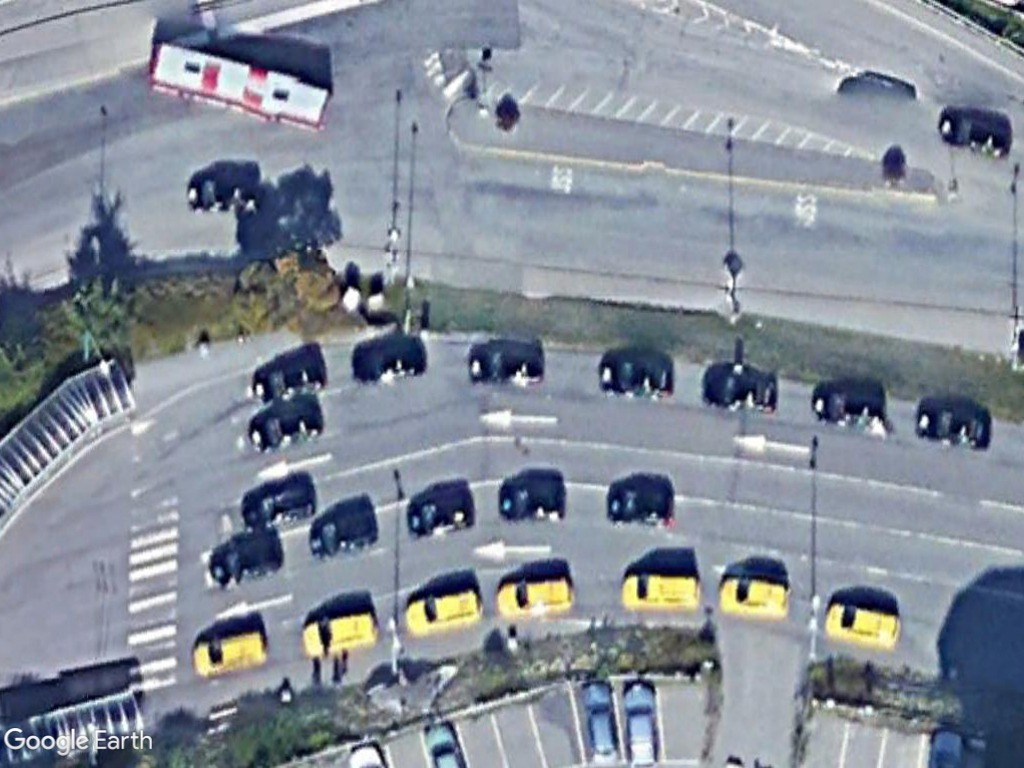bus: (144, 40, 341, 140)
van: (186, 623, 271, 683), (295, 603, 381, 661), (823, 596, 910, 653), (491, 573, 582, 626), (615, 565, 709, 616), (398, 584, 483, 640), (712, 571, 797, 621)
